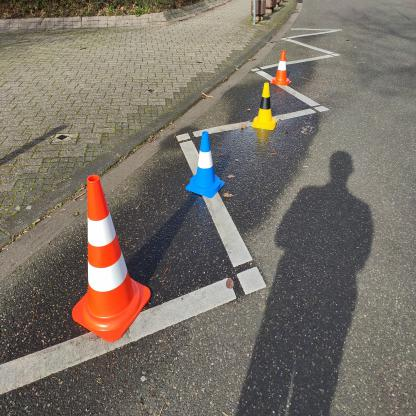Cones_big: (68, 169, 154, 347)
Cones_small_blue: (184, 127, 225, 201)
Cones_small_orange: (272, 49, 295, 86)
Cones_small_yellow: (250, 78, 280, 141)
